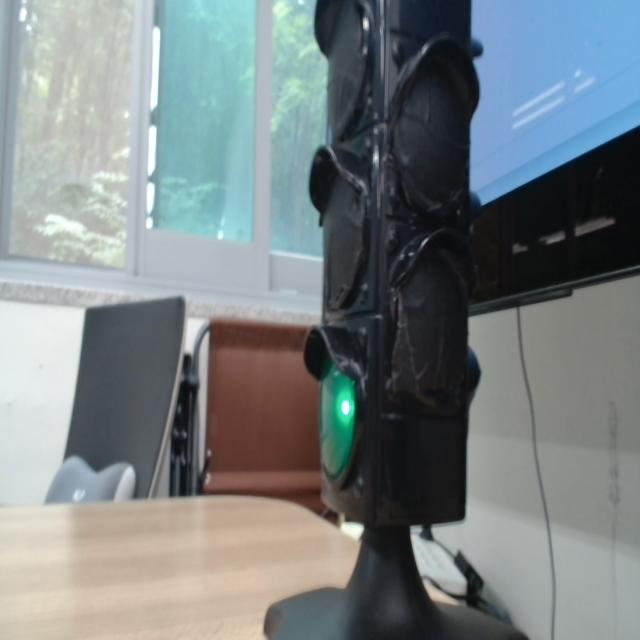green_light: (320, 359, 355, 477)
